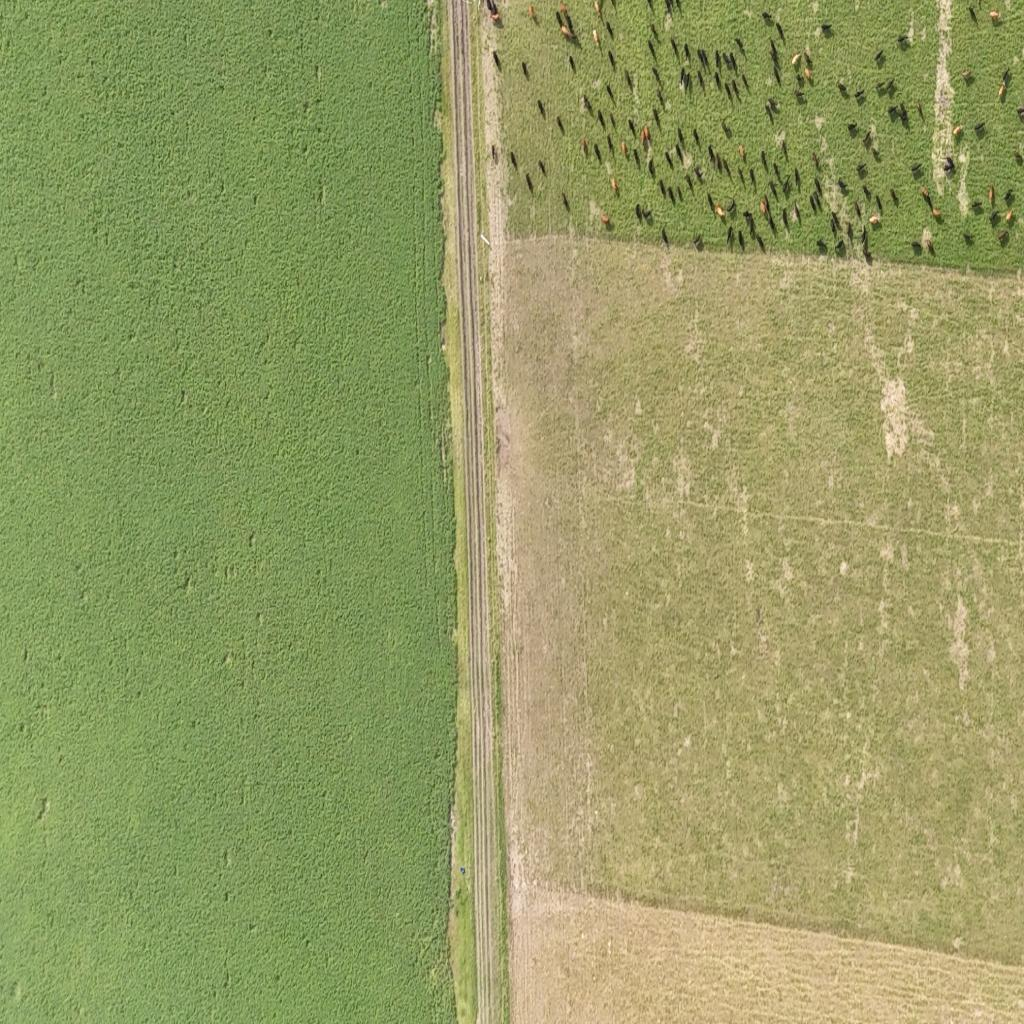cow: (522, 171, 538, 199), (561, 23, 578, 47), (764, 201, 776, 234), (783, 194, 793, 228), (650, 57, 661, 86), (754, 230, 766, 253), (676, 130, 685, 160), (655, 86, 666, 110), (775, 21, 786, 45), (830, 211, 840, 237), (625, 117, 638, 137), (722, 80, 732, 106), (863, 128, 874, 150), (604, 16, 614, 40), (685, 173, 695, 197), (664, 0, 674, 24), (728, 50, 738, 74), (943, 156, 955, 176), (766, 97, 780, 114), (731, 79, 741, 102), (782, 175, 792, 198), (626, 67, 636, 90), (1012, 148, 1024, 167), (648, 34, 656, 62), (970, 200, 984, 216), (810, 191, 820, 213), (814, 176, 824, 198), (743, 210, 755, 228), (854, 86, 866, 104), (837, 80, 849, 98), (856, 162, 868, 180), (885, 74, 897, 92), (583, 94, 593, 115), (1001, 68, 1011, 89), (735, 36, 745, 57), (836, 238, 847, 257), (607, 47, 616, 70), (726, 225, 735, 248), (708, 194, 717, 217), (741, 72, 750, 95), (770, 180, 779, 203), (737, 165, 746, 188), (888, 105, 900, 122), (642, 205, 652, 225), (968, 5, 978, 25), (900, 101, 908, 126), (597, 109, 606, 131), (606, 81, 615, 103), (670, 36, 679, 58), (722, 118, 731, 140), (793, 84, 804, 102), (874, 49, 885, 67), (991, 10, 1002, 28), (770, 66, 781, 84), (683, 72, 692, 94), (708, 145, 716, 169), (715, 150, 723, 174), (698, 68, 706, 92), (962, 230, 974, 246), (817, 239, 829, 255), (974, 121, 986, 137), (674, 0, 684, 19), (871, 142, 881, 161), (1004, 190, 1015, 207), (492, 49, 500, 72), (848, 222, 856, 245), (714, 70, 722, 93), (642, 125, 650, 148), (554, 7, 562, 30), (820, 22, 834, 35), (897, 33, 910, 47), (747, 215, 754, 241), (666, 146, 675, 166), (762, 11, 774, 26), (562, 190, 570, 212), (661, 226, 669, 248), (659, 178, 667, 200), (738, 229, 746, 251), (876, 194, 884, 216), (653, 106, 661, 128), (648, 158, 656, 180), (724, 156, 732, 178), (773, 161, 781, 183), (989, 211, 1000, 227), (837, 177, 848, 193), (565, 17, 576, 33), (722, 50, 731, 69), (608, 110, 616, 131), (697, 46, 704, 70), (848, 122, 860, 136), (911, 162, 923, 176), (911, 241, 923, 255), (564, 6, 575, 21), (890, 188, 899, 206), (668, 186, 677, 204), (694, 233, 703, 251), (863, 183, 872, 201), (863, 247, 872, 265), (761, 150, 768, 173), (715, 49, 722, 72), (556, 115, 564, 135), (792, 201, 800, 221), (854, 198, 862, 218), (726, 199, 736, 215), (999, 230, 1009, 246), (695, 166, 705, 182), (876, 78, 886, 94), (649, 20, 659, 36), (489, 11, 501, 24), (861, 227, 868, 249), (607, 133, 614, 155), (634, 148, 641, 170), (694, 126, 701, 148), (782, 139, 789, 161), (635, 203, 643, 222), (804, 49, 812, 68), (921, 188, 931, 203), (595, 143, 602, 164), (765, 101, 772, 122), (538, 160, 546, 178), (794, 166, 800, 190), (812, 152, 820, 170), (916, 101, 924, 119), (678, 67, 684, 91), (1015, 104, 1024, 120), (610, 177, 618, 195), (510, 149, 517, 169), (522, 60, 529, 80), (568, 54, 575, 74), (491, 143, 498, 163), (760, 199, 768, 216), (607, 0, 616, 15), (593, 28, 600, 47), (750, 169, 756, 191), (684, 42, 690, 64), (769, 42, 780, 54), (998, 84, 1006, 100), (529, 4, 536, 22), (791, 54, 800, 68), (716, 204, 725, 218), (491, 0, 500, 14), (538, 98, 544, 118), (582, 136, 588, 156), (804, 66, 812, 81), (953, 125, 963, 137), (869, 215, 881, 225), (646, 0, 654, 14), (738, 145, 746, 159), (594, 0, 601, 16), (601, 213, 610, 225), (928, 240, 935, 255), (1006, 210, 1014, 223), (962, 70, 972, 80), (932, 209, 941, 220), (484, 0, 493, 11), (771, 54, 778, 68), (621, 140, 627, 156), (989, 186, 994, 204)
